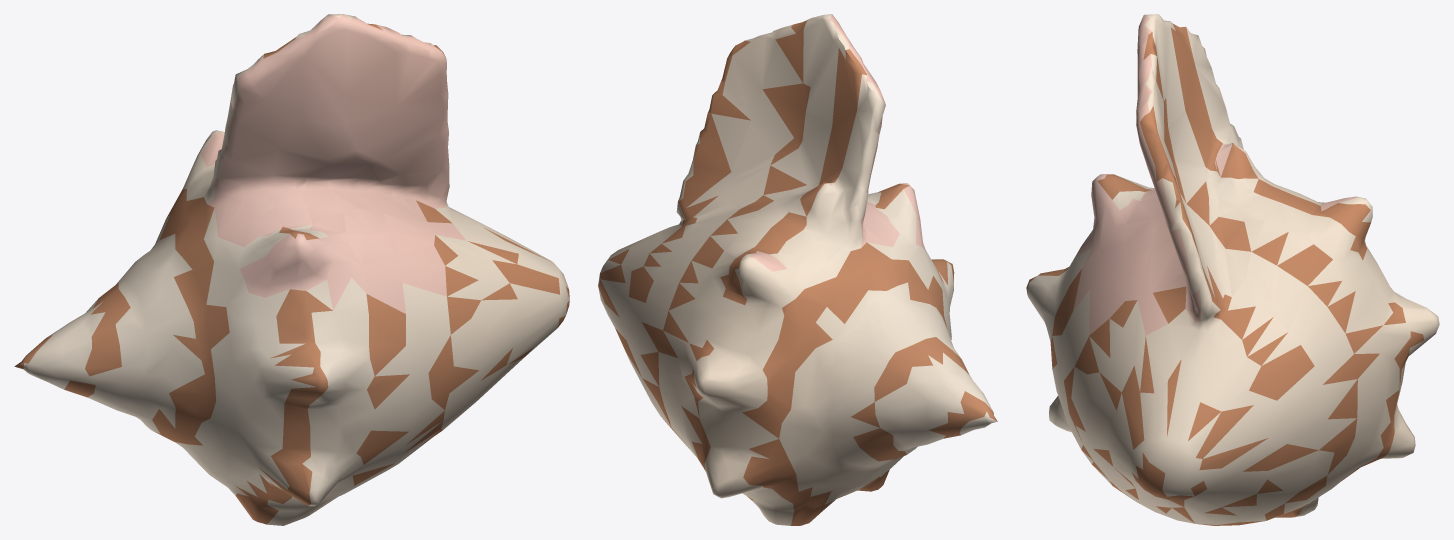
File: shore_conch_lod1.glb
3 views of the same model, side by side, from view 1: azimuth 30°, elevation 25°; view 2: azimuth 150°, elevation 25°; view 3: azimuth 270°, elevation 25° (orthographic). The views are drawn at different scales.
Visible parts, largest first — view 1: shore_conch.001; view 2: shore_conch.001; view 3: shore_conch.001.
Boxes of the visible parts, x1,y1,x2,y2 form: shore_conch.001: (14, 14, 569, 525); shore_conch.001: (598, 14, 997, 525); shore_conch.001: (1026, 14, 1439, 525).
Bounding box in the file's own units: 4.76 × 4.6 × 3.43.
